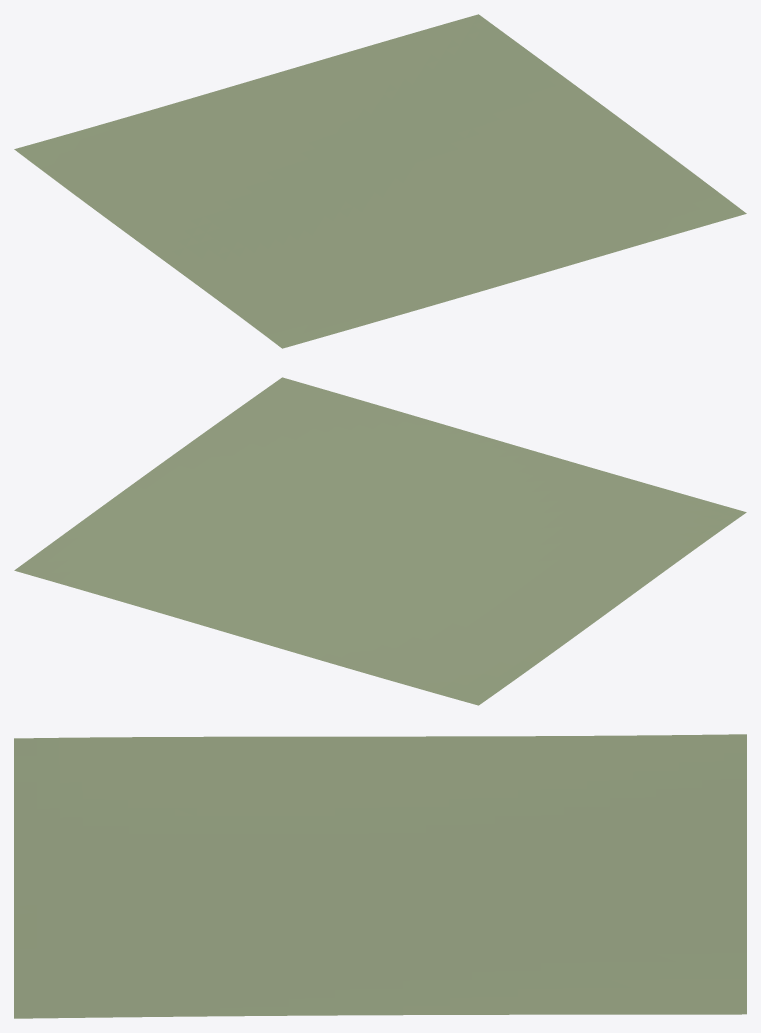
The model's file is expanse-7-5.glb.
The picture shows the model from 3 angles, top to bottom: view 1: azimuth 30°, elevation 25°; view 2: azimuth 150°, elevation 25°; view 3: azimuth 270°, elevation 25°; orthographic projection. The views are drawn at different scales.
Visible parts, largest first — view 1: expanse-7-5; view 2: expanse-7-5; view 3: expanse-7-5.
Part boxes in pixels (x1=…): expanse-7-5: x1=14, y1=14, x2=746, y2=348; expanse-7-5: x1=14, y1=377, x2=746, y2=705; expanse-7-5: x1=14, y1=734, x2=746, y2=1018.
Bounding box in the file's own units: 256 × 13.01 × 256.
